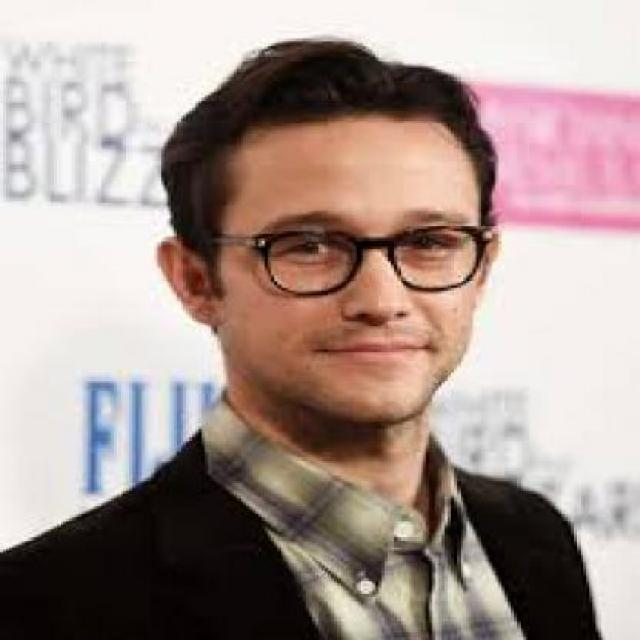glasses: (243, 225, 505, 301)
